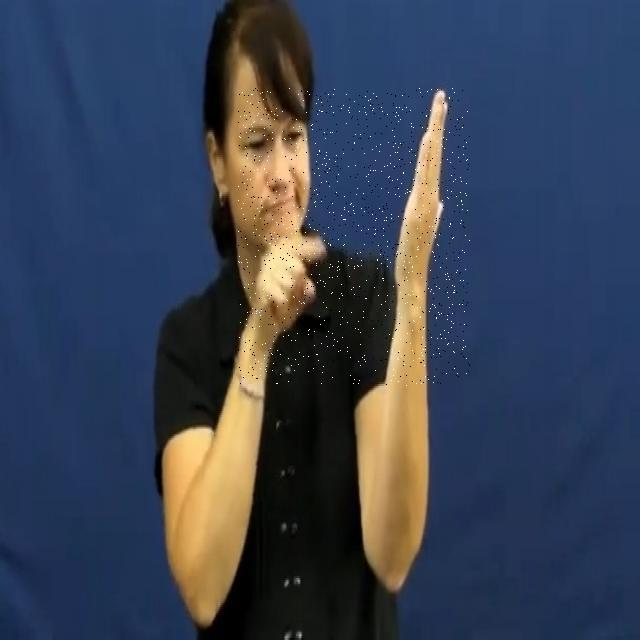menu: (238, 88, 470, 386)
